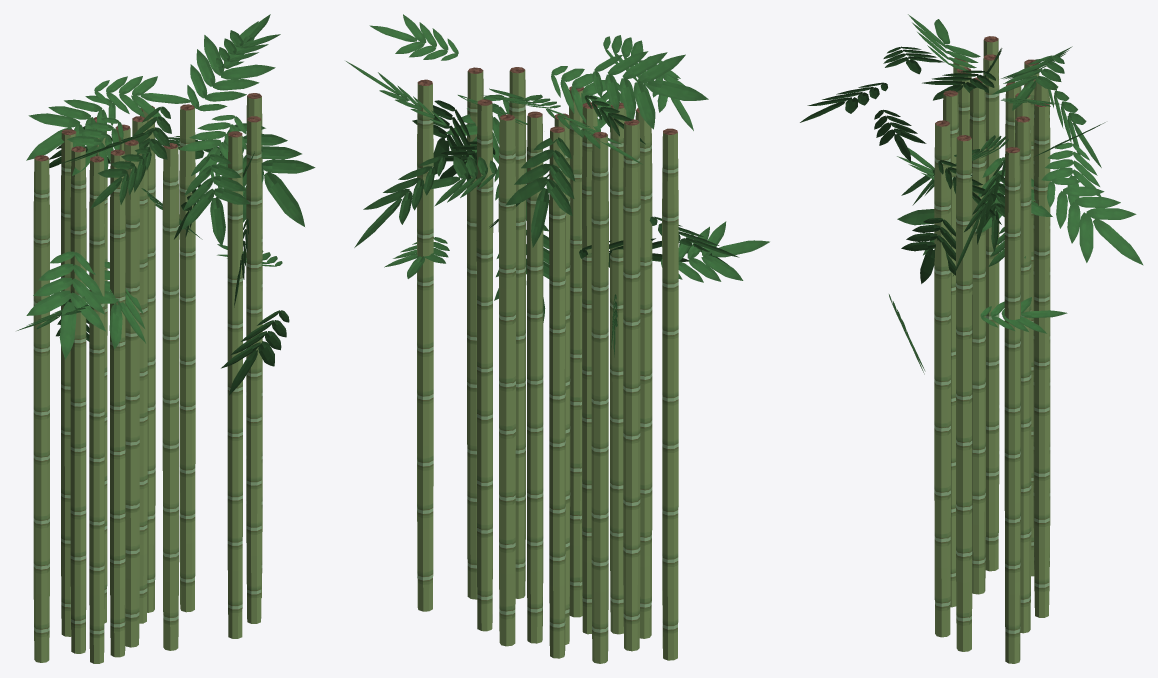
File: Bambus_grün.fbx
3 renders of one model, left to right at view 1: azimuth 30°, elevation 25°; view 2: azimuth 150°, elevation 25°; view 3: azimuth 270°, elevation 25°, orthographic. The views are drawn at different scales.
Visible parts, largest first — view 1: Cube.015; view 2: Cube.015; view 3: Cube.015.
Boxes of the visible parts, x1,y1,x2,y2 form: Cube.015: (17, 14, 315, 663); Cube.015: (346, 14, 769, 663); Cube.015: (800, 14, 1143, 663).
Bounding box in the file's own units: 341 × 582 × 318.
